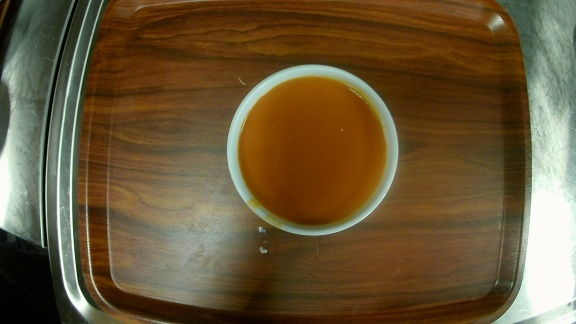domatescorba: (225, 62, 401, 238)
